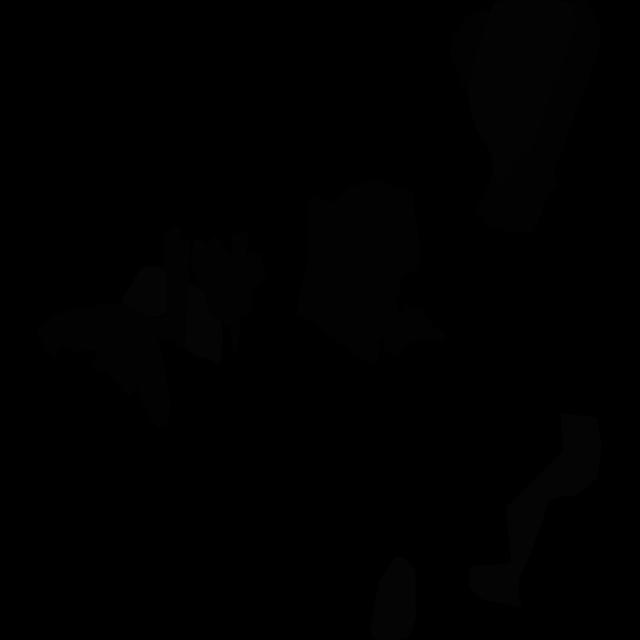cardboard: (36, 226, 190, 429), (475, 0, 601, 234), (296, 181, 445, 367), (206, 253, 267, 327), (190, 230, 250, 294), (450, 7, 489, 89), (230, 316, 241, 358)
metal: (468, 0, 577, 186)
soft_plastic: (469, 413, 602, 608), (370, 556, 416, 640), (185, 282, 223, 365), (121, 265, 167, 317)
